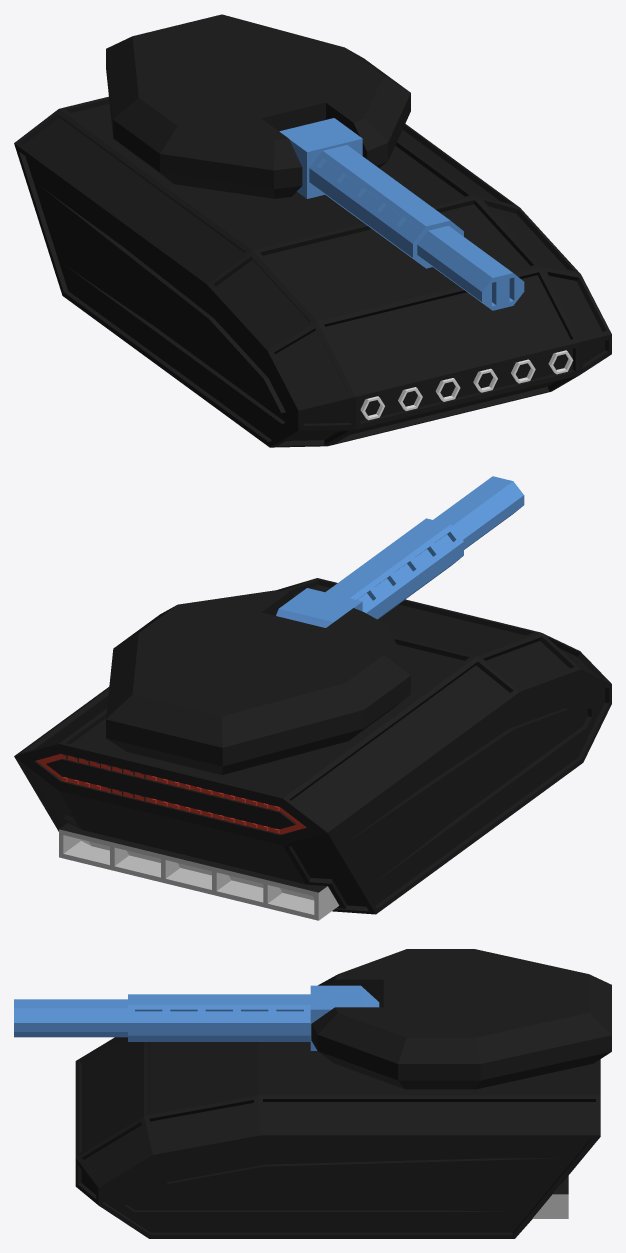
The model's file is tanky.fbx.
The picture shows the model from 3 angles, top to bottom: view 1: azimuth 30°, elevation 25°; view 2: azimuth 150°, elevation 25°; view 3: azimuth 270°, elevation 25°; orthographic projection. The views are drawn at different scales.
Parts seen in each view (by area): view 1: Body1, Body2, Body3; view 2: Body1, Body2, Body3; view 3: Body1, Body2, Body3.
Part boxes in pixels (x1=…): Body1: x1=14, y1=96, x2=611, y2=447; Body2: x1=106, y1=14, x2=410, y2=198; Body3: x1=279, y1=118, x2=524, y2=310; Body1: x1=14, y1=578, x2=611, y2=920; Body2: x1=106, y1=590, x2=410, y2=774; Body3: x1=276, y1=476, x2=524, y2=627; Body1: x1=75, y1=1037, x2=600, y2=1238; Body2: x1=311, y1=949, x2=611, y2=1089; Body3: x1=14, y1=985, x2=379, y2=1050.
Bounding box in the file's own units: 70 × 43 × 131.
